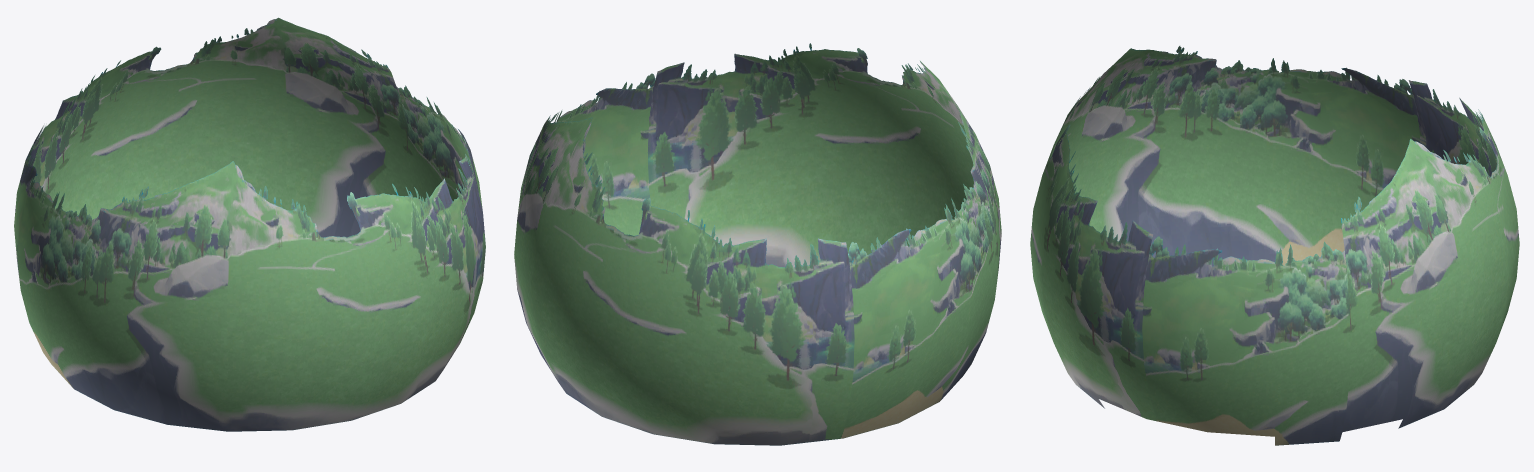
Rendered from SkyDome.obj.
3 views of the same model, side by side, from view 1: azimuth 30°, elevation 25°; view 2: azimuth 150°, elevation 25°; view 3: azimuth 270°, elevation 25° (orthographic). The views are drawn at different scales.
Parts seen in each view (by area): view 1: pasted__pasted__pSphere1 pasted__group4 group; view 2: pasted__pasted__pSphere1 pasted__group4 group; view 3: pasted__pasted__pSphere1 pasted__group4 group.
Part boxes in pixels (x1=…): pasted__pasted__pSphere1 pasted__group4 group: x1=14, y1=17, x2=485, y2=431; pasted__pasted__pSphere1 pasted__group4 group: x1=514, y1=43, x2=1001, y2=445; pasted__pasted__pSphere1 pasted__group4 group: x1=1030, y1=46, x2=1519, y2=445.
Size of the model in its own units: 120 by 85.14 by 120.
1 material, 1 textured.
